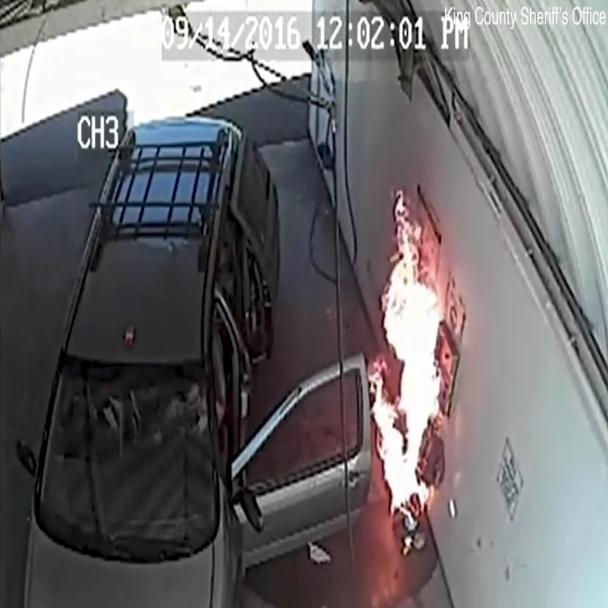Fire: (359, 156, 528, 570)
